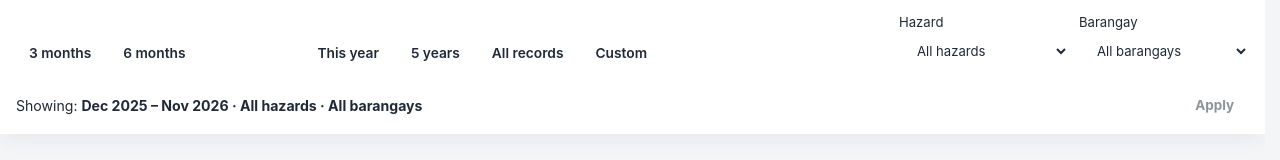
Test: apply mode: choices wait for Apply, which sends them once
The width and height of the screenshot is (1280, 160).
Later steps or results of the test are not shown.
Expected: the button "Apply" is disabled, [1180,88,1249,122]
Click the button "6 months" at (154, 53), box [110,38,198,68]
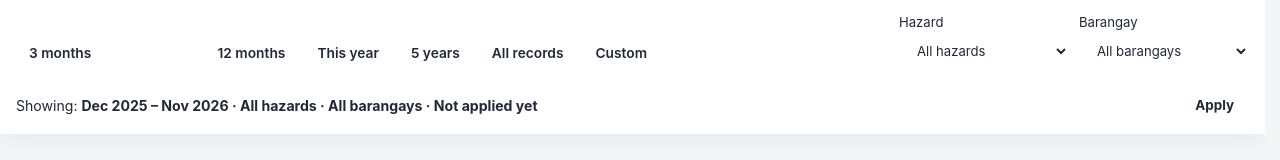
Result: the text "Not applied yet" is shown at [422,96,538,114]
Result: the button "Apply" is enabled at [1180,88,1249,122]
